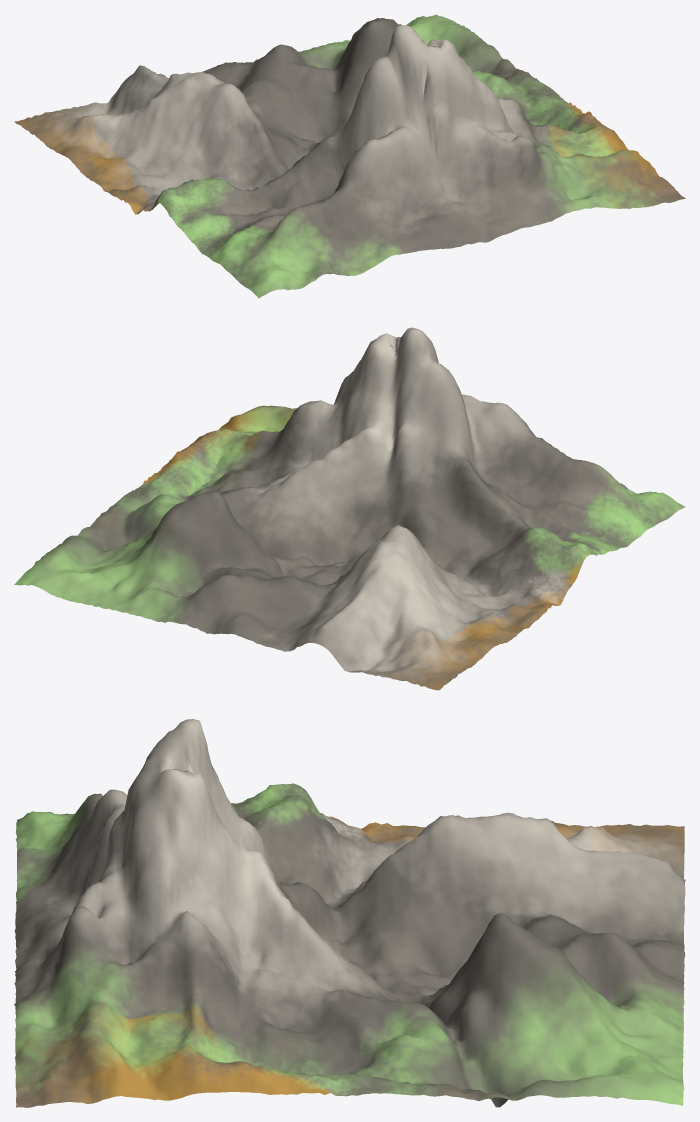
The model's file is MOUNTAIN.fbx.
3 views of the same model, one above another, from view 1: azimuth 30°, elevation 25°; view 2: azimuth 150°, elevation 25°; view 3: azimuth 270°, elevation 25° (orthographic). The views are drawn at different scales.
Parts seen in each view (by area): view 1: Plane; view 2: Plane; view 3: Plane.
Part boxes in pixels (x1,y1,x2,y2): Plane: (14,14,685,298); Plane: (14,327,685,690); Plane: (14,719,685,1107).
Size of the model in its own units: 15052 by 6713 by 15054.
